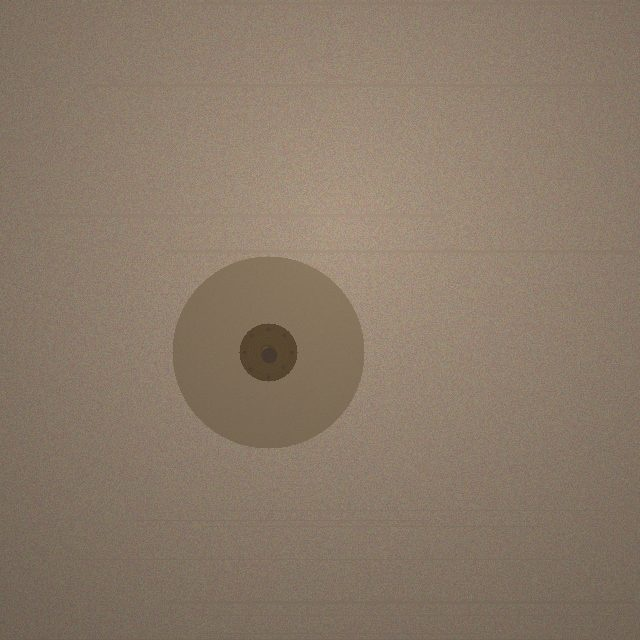cold_weld: (172, 256, 364, 448)
